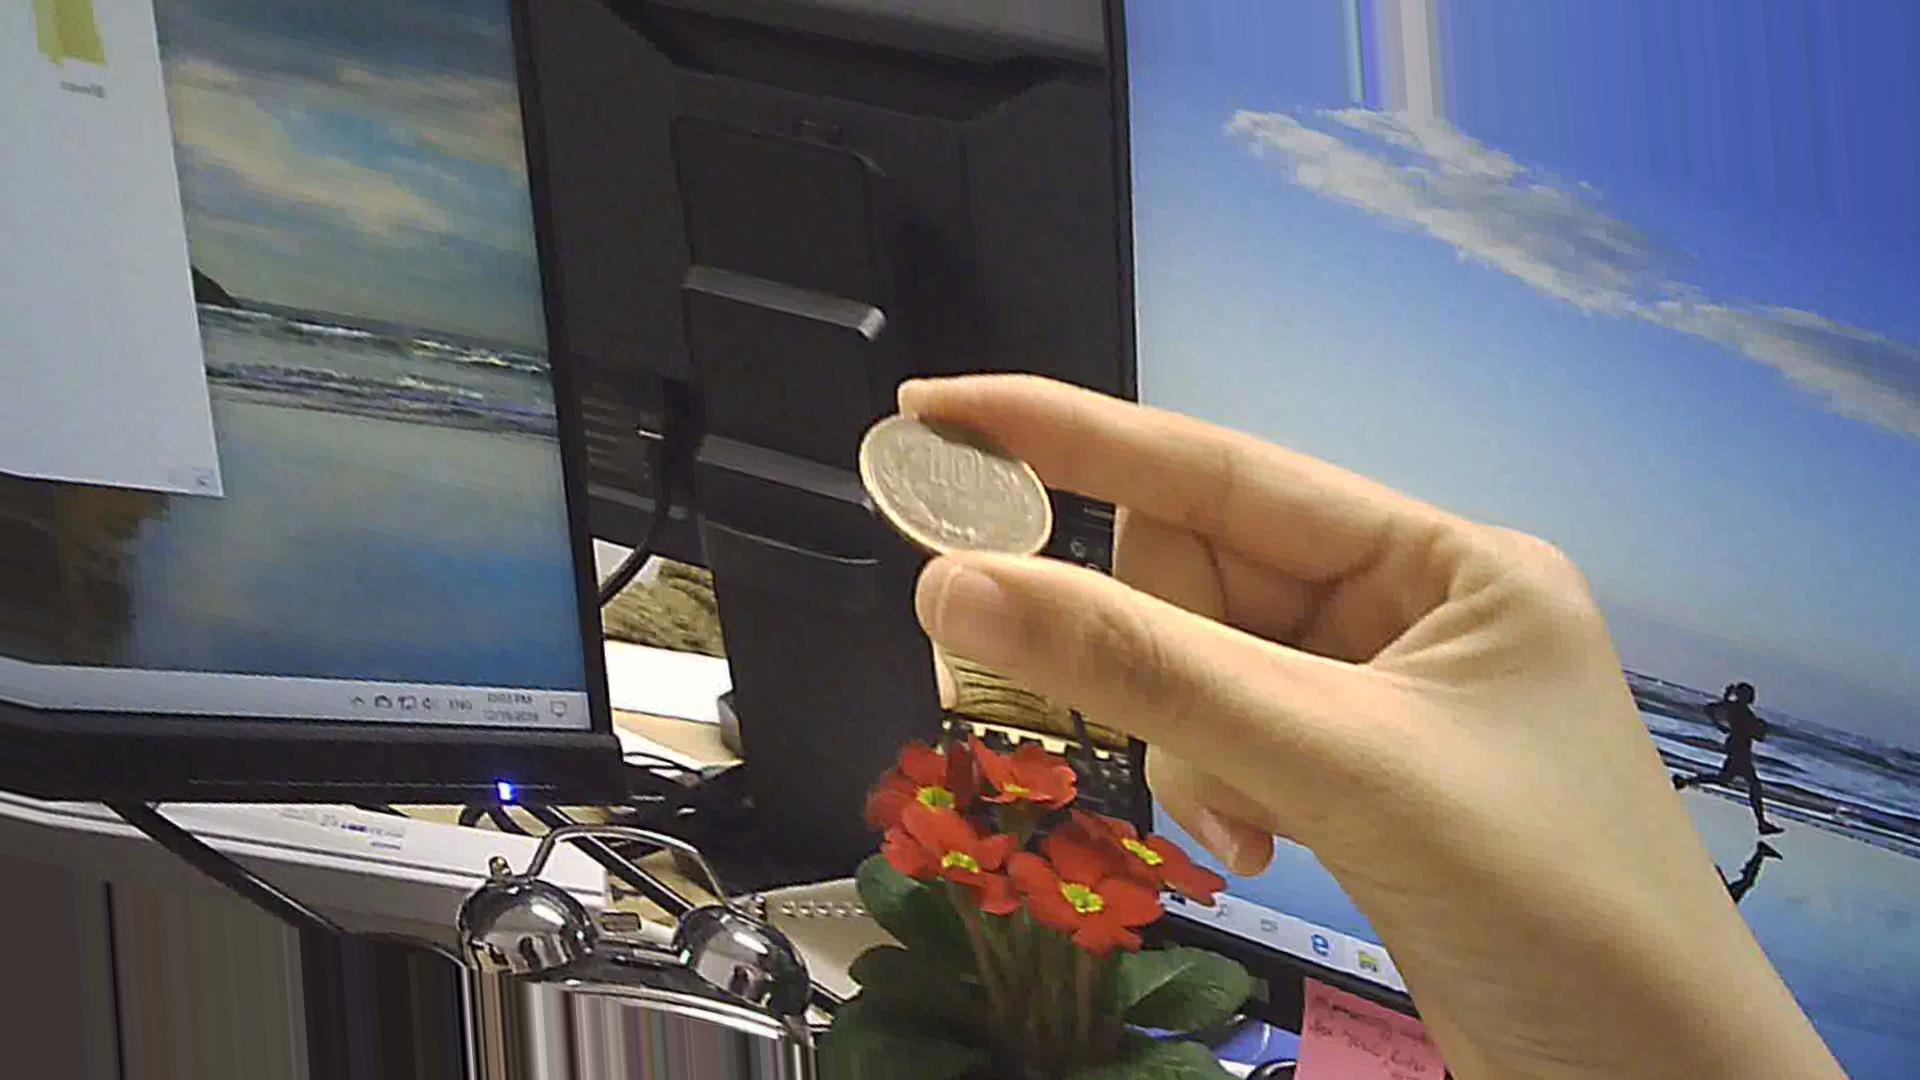10 Yen: (851, 393, 1059, 563)
